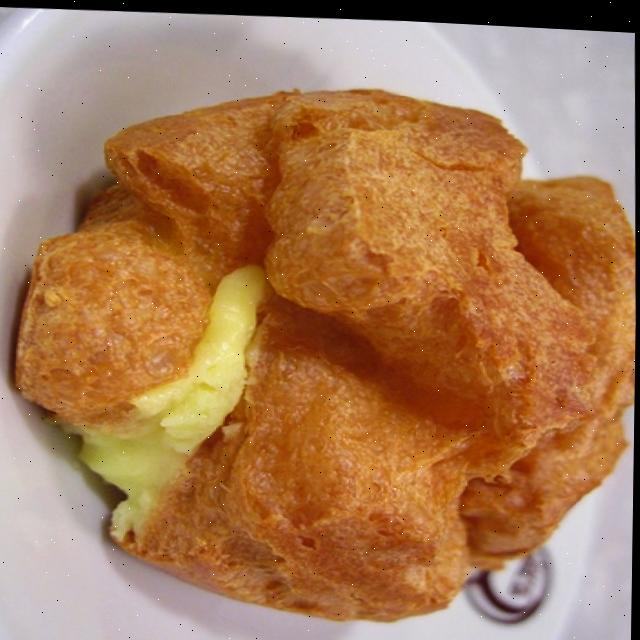炸货点心: (0, 31, 640, 640)
蛋糕甜品: (0, 31, 640, 640)
